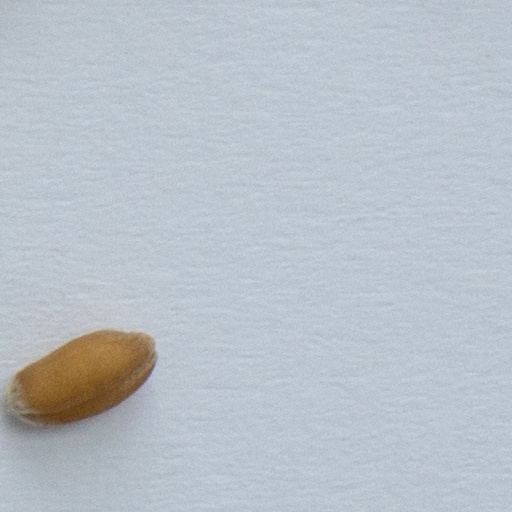Wheat-grain-poly: (9, 330, 158, 425)
